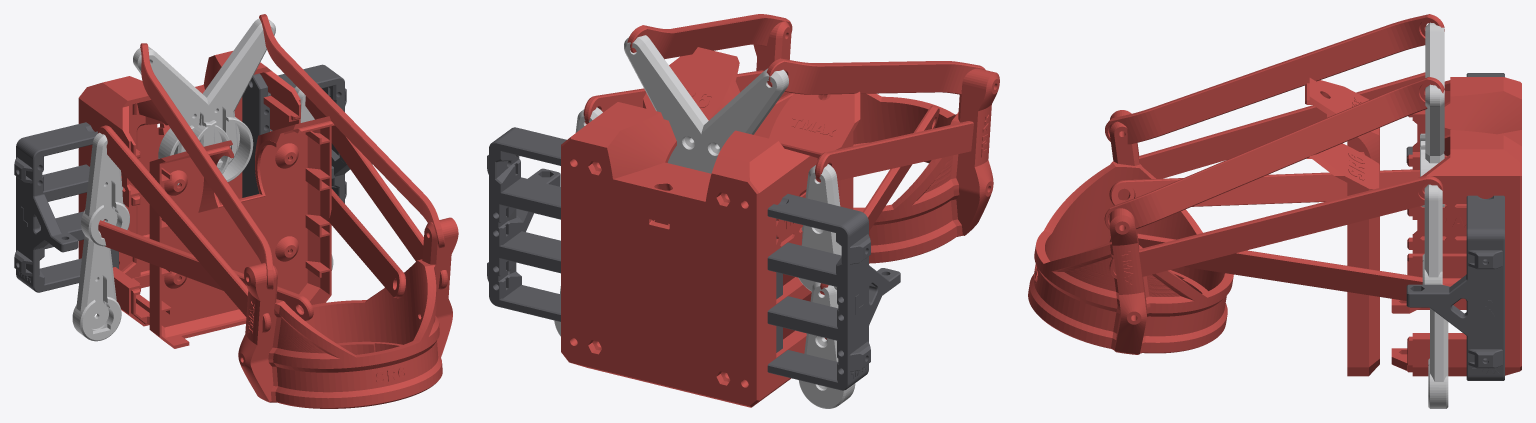
File: sr6_assembly.glb
3 renders of one model, left to right at view 1: azimuth 30°, elevation 25°; view 2: azimuth 150°, elevation 25°; view 3: azimuth 270°, elevation 25°, orthographic. The views are drawn at different scales.
Parts seen in each view (by area): view 1: Receiver, Lid, Base, L_Frame, Arm_R_p, Link_L_up, Link_R_p, Link_L_p, R_Frame, Arm_L_lo, Link_L_lo, Link_R_up (+3 smaller); view 2: Base, Receiver, L_Frame, R_Frame, Lid, Link_L_p, Link_L_up, Arm_R_p, Link_R_p, Arm_L_p, Arm_L_lo, Arm_L_up (+3 smaller); view 3: Receiver, Base, Link_R_p, Link_L_p, R_Frame, Link_R_up, Lid, Link_R_lo, Link_L_up, Link_L_lo, Arm_R_up, Arm_R_lo (+2 smaller).
Boxes of the visible parts, x1,y1,x2,y2 form: Receiver: (238,217,458,408); Lid: (149,116,334,348); Base: (78,51,300,326); L_Frame: (14,122,118,292); Arm_R_p: (193,18,275,181); Link_L_up: (97,125,271,332); Link_R_p: (259,14,444,248); Link_L_p: (140,43,273,289); R_Frame: (242,64,372,203); Arm_L_lo: (72,231,121,341); Link_L_lo: (98,220,313,320); Link_R_up: (305,96,447,289); Base: (561,102,817,407); Receiver: (753,21,999,263); L_Frame: (767,194,900,390); R_Frame: (487,127,566,321); Lid: (643,47,860,339); Link_L_p: (766,58,985,94); Link_L_up: (815,121,973,182); Arm_R_p: (624,35,713,173); Link_R_p: (627,14,792,59); Arm_L_p: (684,68,788,173); Arm_L_lo: (798,282,855,408); Arm_L_up: (798,164,841,291); Receiver: (1028,110,1233,354); Base: (1391,77,1521,376); Link_R_p: (1104,77,1444,229); Link_L_p: (1105,14,1444,144); R_Frame: (1406,195,1504,380); Link_R_up: (1109,176,1443,278); Lid: (1305,78,1379,376); Link_R_lo: (1109,233,1445,300); Link_L_up: (1139,72,1425,178); Link_L_lo: (1109,169,1419,206); Arm_R_up: (1422,184,1442,284); Arm_R_lo: (1428,308,1448,408).
Size of the model in its own units: 220 by 184 by 271.
